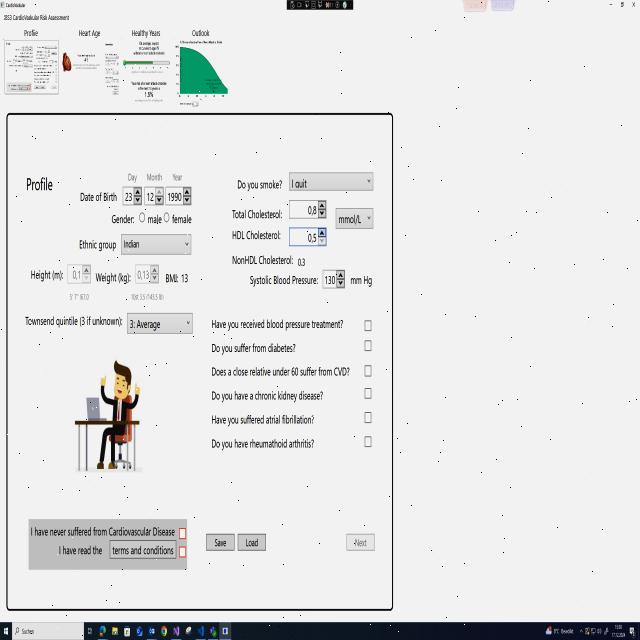button: (108, 539, 177, 560), (237, 530, 269, 554), (345, 528, 375, 553), (204, 531, 236, 554), (603, 0, 616, 9), (618, 0, 628, 9), (629, 0, 640, 8)
checkbox: (179, 526, 188, 542), (363, 434, 373, 448), (178, 544, 186, 561), (364, 364, 373, 378), (363, 410, 372, 424), (364, 318, 372, 333), (364, 338, 372, 353), (364, 387, 372, 401)
dropdownMenu: (288, 168, 376, 196), (120, 229, 193, 257), (125, 309, 196, 335), (334, 204, 376, 234), (554, 628, 583, 634)
icon: (210, 626, 217, 638), (100, 625, 106, 637), (197, 626, 204, 636), (630, 627, 636, 638), (112, 626, 118, 636), (124, 626, 130, 636), (136, 626, 142, 636), (161, 626, 167, 636), (173, 626, 179, 636), (186, 626, 192, 636), (546, 625, 552, 635), (149, 626, 154, 636), (585, 626, 590, 635), (88, 627, 92, 635), (604, 627, 608, 635), (597, 628, 602, 634), (591, 628, 595, 635)
input: (12, 621, 84, 640)
label: (210, 312, 348, 339), (29, 517, 177, 537), (207, 361, 356, 380), (205, 433, 322, 456), (206, 410, 325, 430), (19, 311, 123, 333), (244, 268, 320, 292), (207, 390, 333, 404), (230, 252, 310, 271), (229, 226, 286, 247), (0, 7, 72, 23), (207, 344, 303, 356), (232, 175, 286, 196), (50, 540, 106, 560), (227, 204, 285, 223), (22, 264, 64, 286), (73, 186, 119, 206), (20, 170, 58, 194), (126, 18, 166, 40), (73, 234, 118, 253), (348, 265, 378, 291), (130, 289, 165, 304), (162, 268, 194, 284), (95, 270, 131, 284), (106, 212, 137, 227), (76, 23, 103, 38), (172, 211, 198, 225), (145, 163, 163, 183), (122, 163, 139, 184), (169, 162, 186, 182), (188, 23, 212, 37), (20, 25, 41, 37), (69, 292, 91, 302), (146, 213, 162, 226)
menu: (0, 621, 640, 640), (4, 627, 8, 635)
radio: (138, 210, 146, 224), (163, 210, 171, 224)
tabControl: (220, 622, 232, 640)
upDown: (287, 197, 329, 222), (288, 224, 328, 248), (134, 262, 160, 286), (321, 268, 346, 292), (67, 262, 93, 285), (165, 185, 192, 207), (122, 185, 143, 207), (144, 186, 165, 207)
